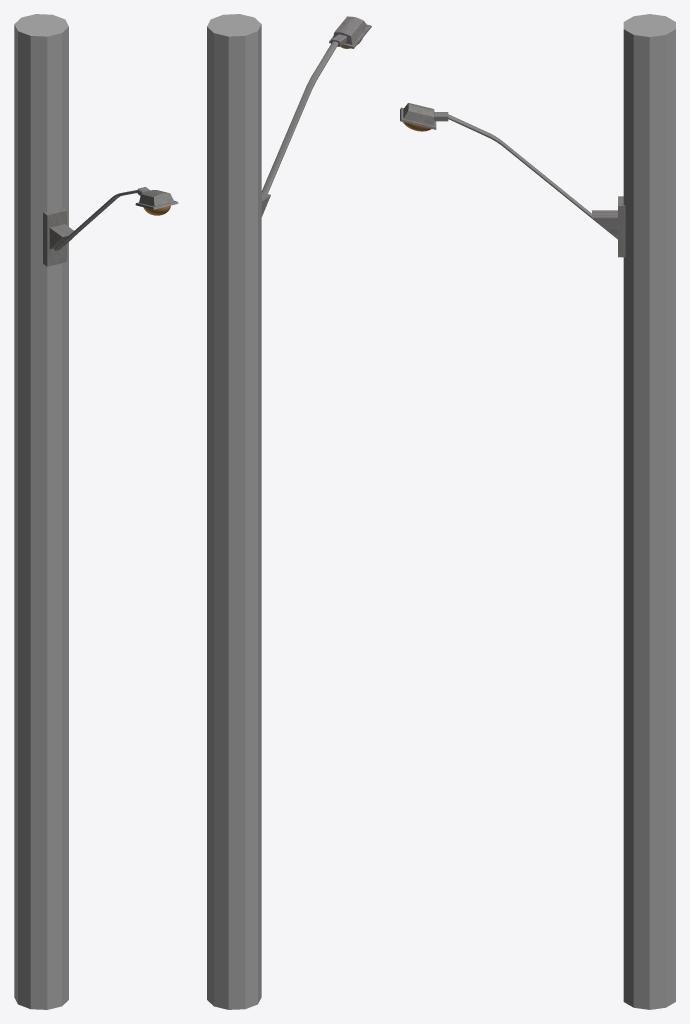
Rendered from streetlight02.fbx.
3 views of the same model, side by side, from view 1: azimuth 30°, elevation 25°; view 2: azimuth 150°, elevation 25°; view 3: azimuth 270°, elevation 25° (orthographic).
Parts seen in each view (by area): view 1: pCylinder3, Box058, Box059; view 2: pCylinder3, Box058, Box059; view 3: pCylinder3, Box058, Box059.
Part boxes in pixels (x1,y1,x2,y2): pCylinder3: (14,14,68,1009); Box058: (43,187,149,266); Box059: (135,190,178,209); pCylinder3: (207,14,261,1009); Box058: (261,34,346,216); Box059: (329,16,371,48); pCylinder3: (623,14,675,1009); Box058: (434,112,625,257); Box059: (400,103,436,129).
Bounding box in the file's own units: 95.9 × 1880 × 483.
